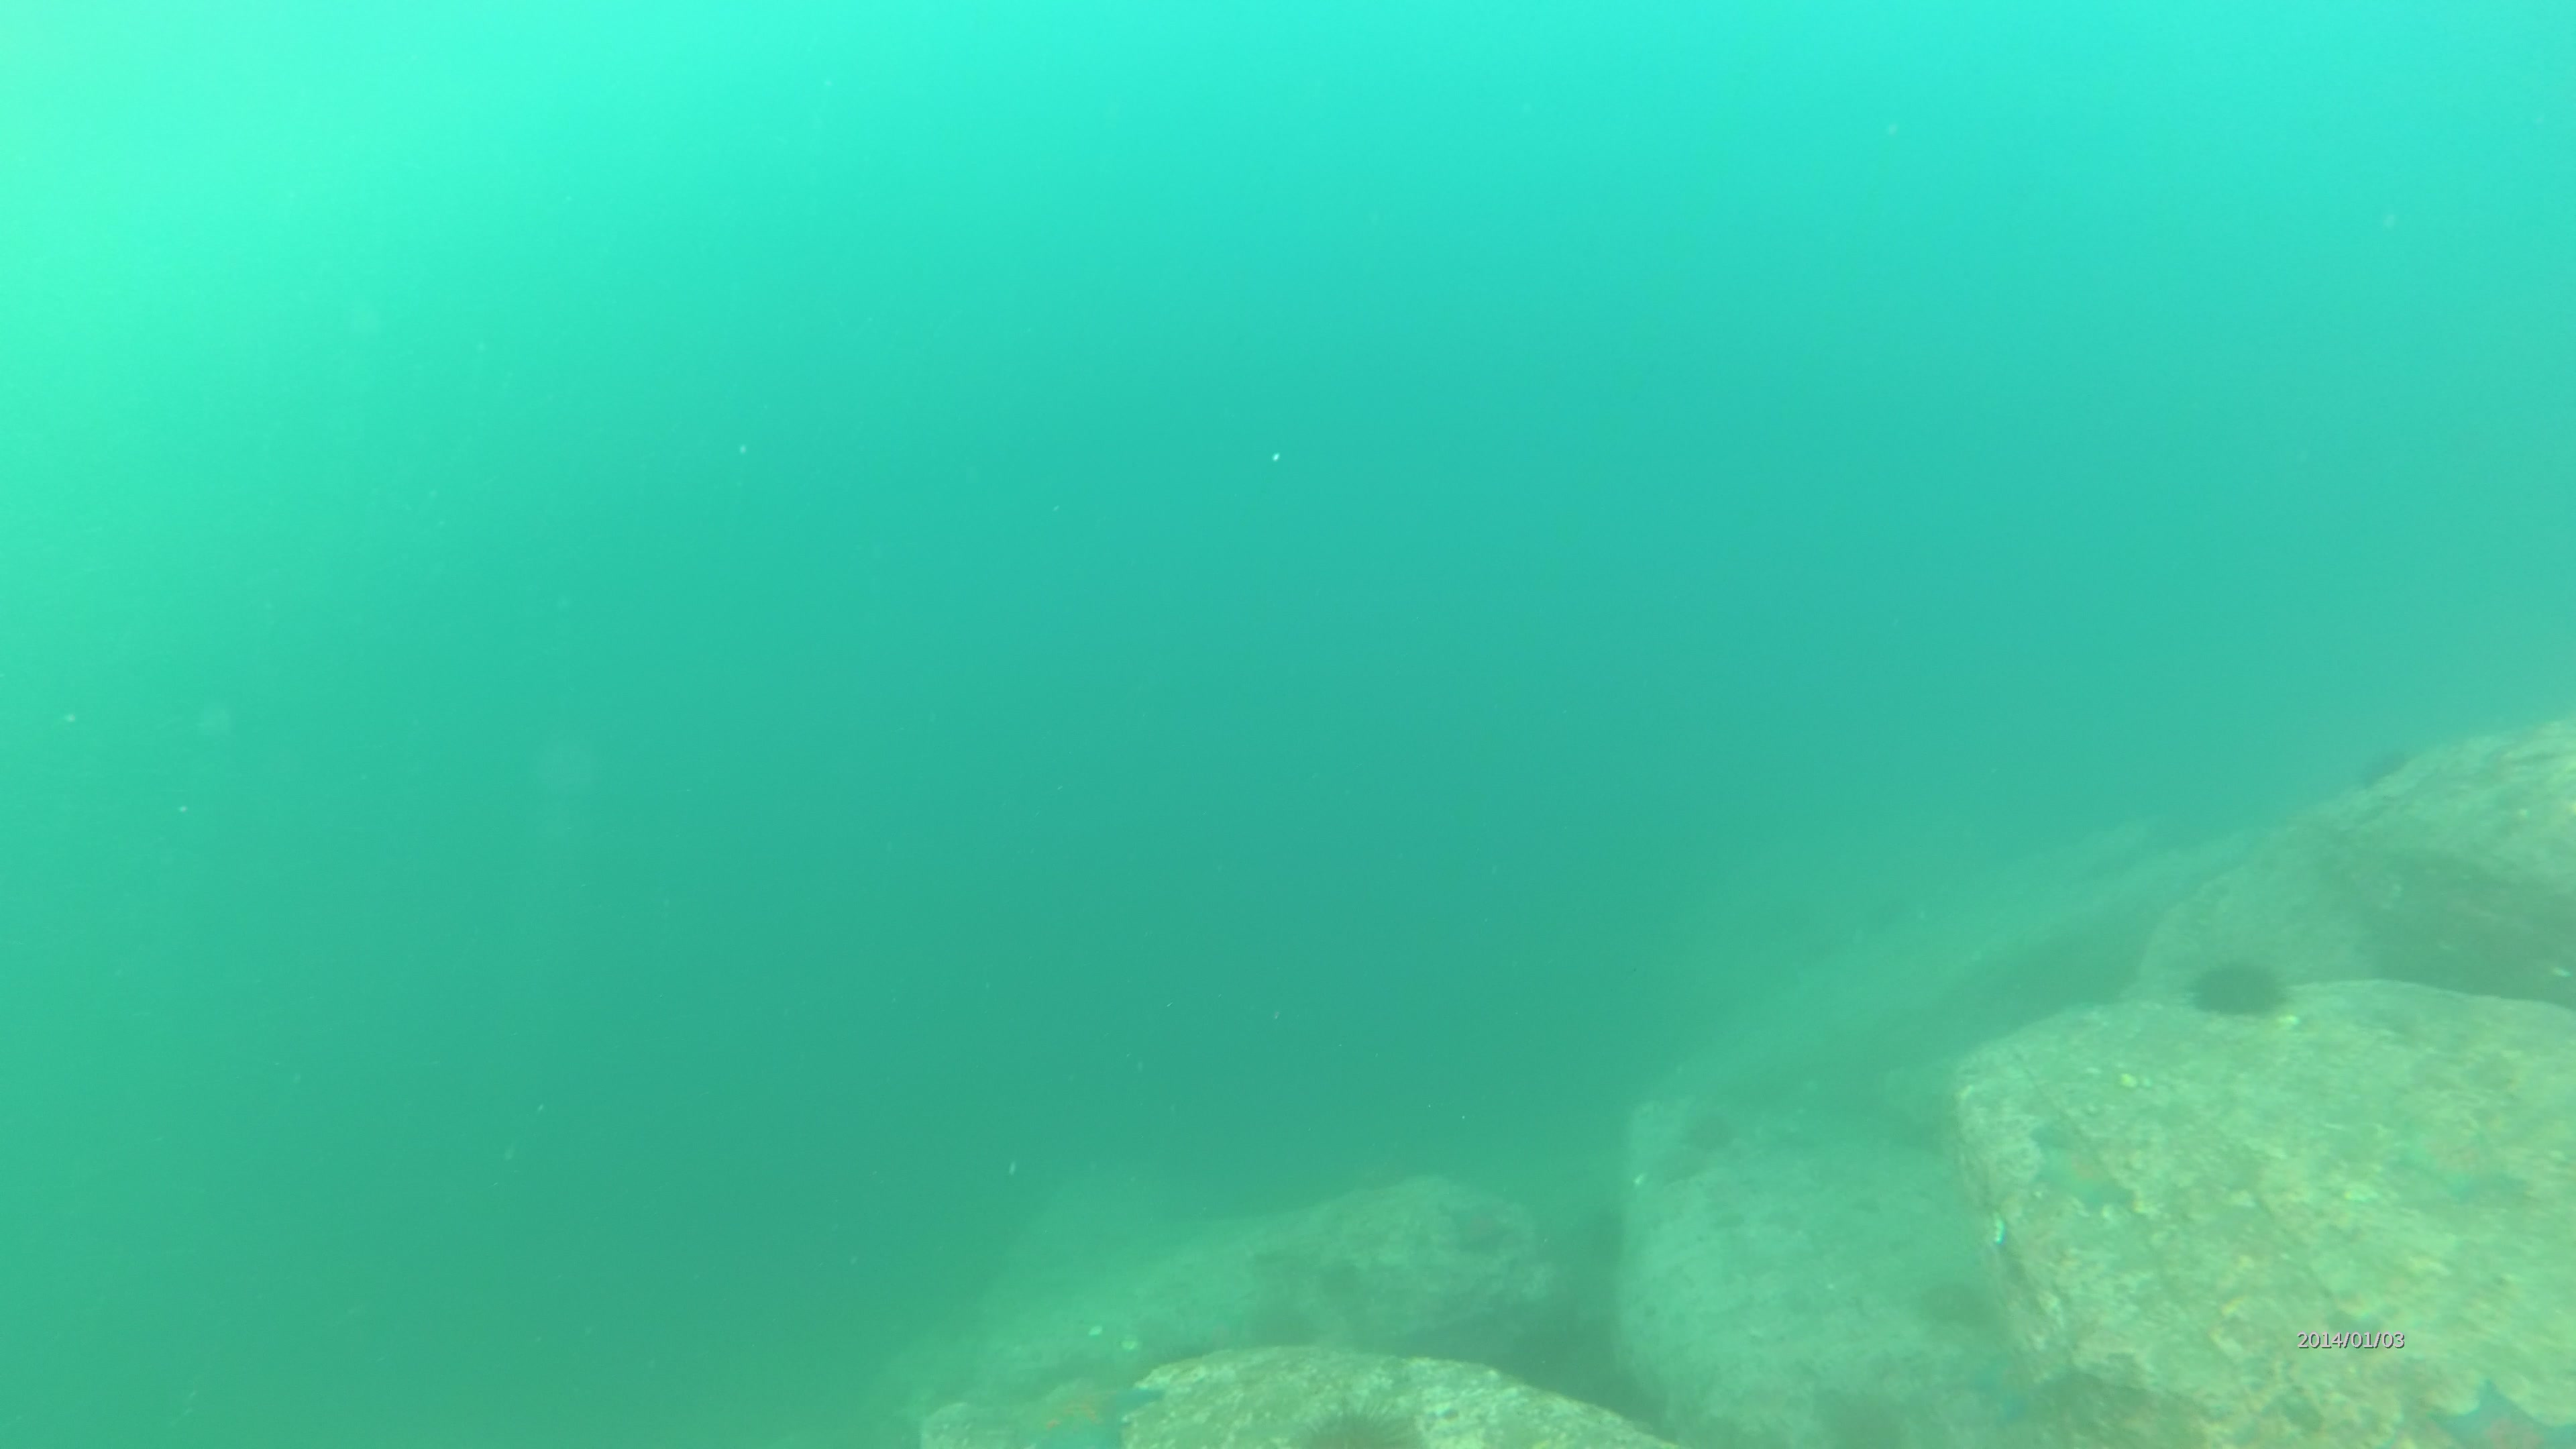echinus: (2185, 959, 2289, 1019)
starfish: (1003, 1366, 1155, 1449), (2399, 1118, 2532, 1210), (2426, 1371, 2574, 1449), (2031, 1122, 2143, 1223)
